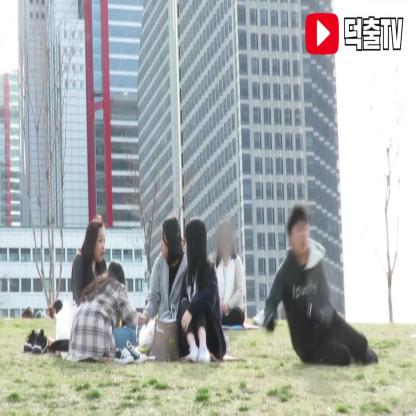Fall_Down: (264, 205, 380, 371)
